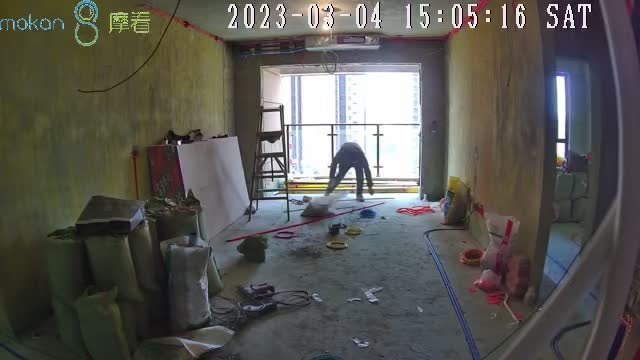people: (325, 142, 375, 203)
window: (278, 73, 418, 182), (555, 73, 568, 169)
